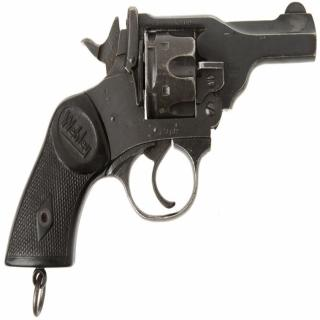gun: (11, 10, 316, 286)
